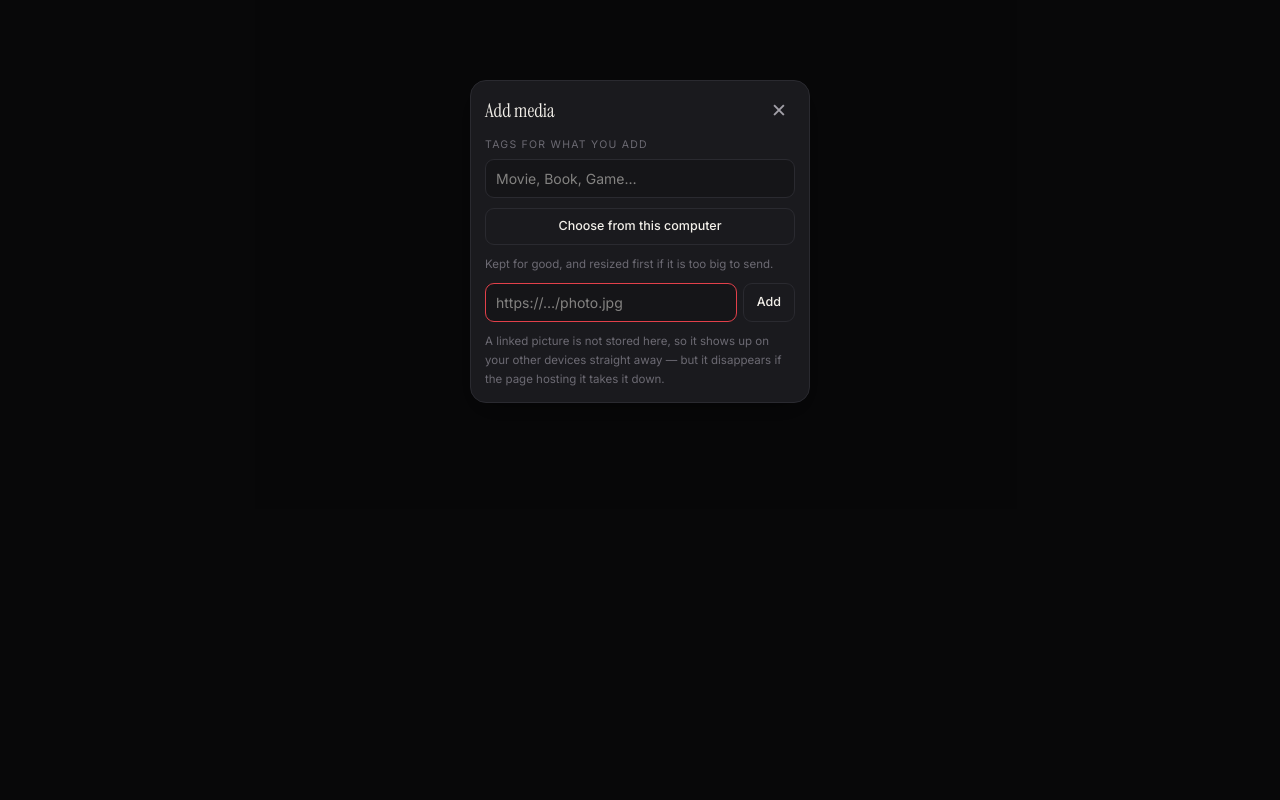
Test: tagging a batch before it is uploaded › finishes a tag on a comma, without waiting for Enter
The image size is (1280, 800).
Type "Photo," into the field with placeholder "Movie, Book, Game…". click: (640, 178)
box: left=485, top=159, right=795, bottom=198
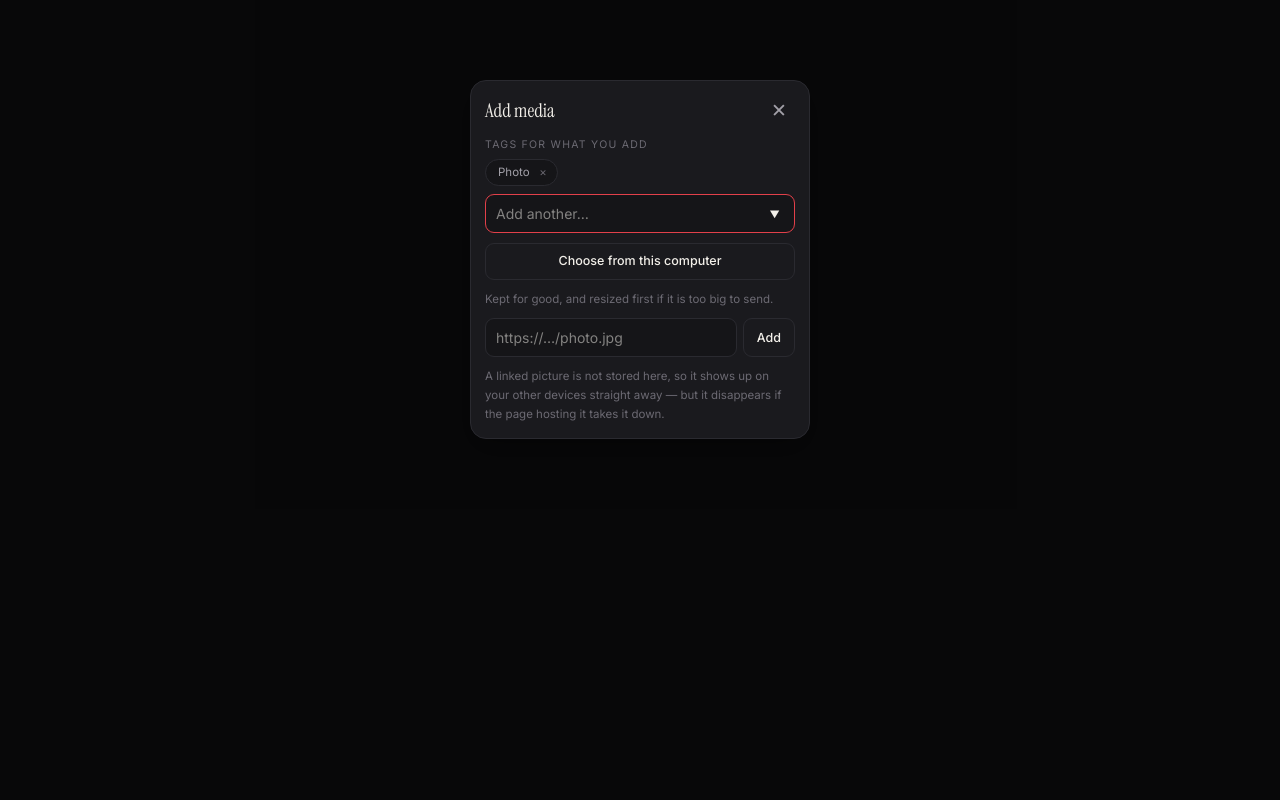
Expected: the field with placeholder "Movie, Book, Game…" is empty, left=485, top=194, right=795, bottom=233
Now the button titled "Remove Photo" next to "Photo" is shown, box left=536, top=165, right=551, bottom=180
